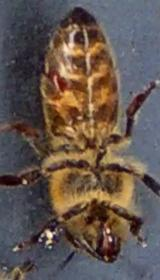varroa_mite: (44, 66, 68, 98)
